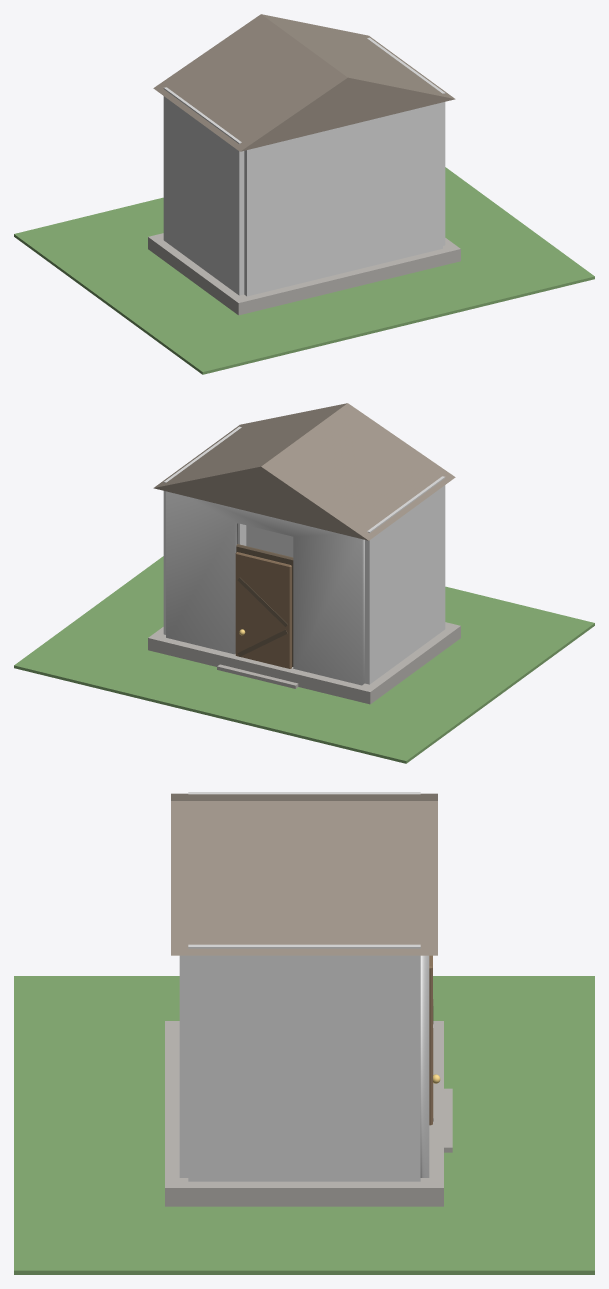
The model's file is shed.glb.
3 renders of one model, top to bottom at view 1: azimuth 30°, elevation 25°; view 2: azimuth 150°, elevation 25°; view 3: azimuth 270°, elevation 25°, orthographic. The views are drawn at different scales.
Parts seen in each view (by area): view 1: ground, back_wall, roof, left_wall, foundation, right_wall; view 2: ground, roof, front_wall, left_wall, foundation, panel, back_wall, right_wall, frame, door_step; view 3: ground, right_wall, roof, foundation, front_wall, back_wall, left_wall, panel.
Part boxes in pixels (left/top/right/bottom): ground: left=14, top=167, right=594, bottom=374; back_wall: left=244, top=102, right=442, bottom=296; roof: left=153, top=14, right=455, bottom=151; left_wall: left=163, top=87, right=244, bottom=295; foundation: left=148, top=233, right=460, bottom=315; right_wall: left=367, top=37, right=445, bottom=245; ground: left=14, top=556, right=594, bottom=763; roof: left=153, top=403, right=455, bottom=540; front_wall: left=166, top=491, right=364, bottom=685; left_wall: left=364, top=476, right=445, bottom=684; foundation: left=148, top=622, right=460, bottom=704; panel: left=235, top=552, right=291, bottom=668; back_wall: left=246, top=525, right=293, bottom=557; right_wall: left=163, top=426, right=246, bottom=634; frame: left=236, top=544, right=293, bottom=666; door_step: left=217, top=664, right=298, bottom=688; ground: left=14, top=976, right=594, bottom=1274; right_wall: left=188, top=944, right=420, bottom=1181; roof: left=171, top=793, right=437, bottom=955; foundation: left=165, top=1021, right=443, bottom=1206; front_wall: left=420, top=955, right=429, bottom=1177; back_wall: left=179, top=955, right=188, bottom=1177; left_wall: left=188, top=792, right=420, bottom=794; panel: left=429, top=955, right=432, bottom=1125.
Size of the model in its own units: 6 by 3.3 by 5.
